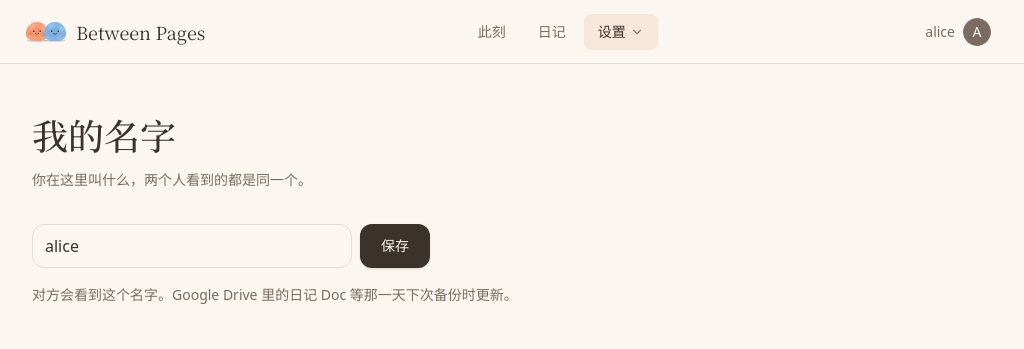
Test case: NamePage › [adr:display-name#3] shows the new name everywhere on screen without reloading
The width and height of the screenshot is (1024, 349).
Expected: the button with aria-label "账号：alice" is shown, [916,14,1000,50]
Replace the text in the field named "名字" with " 小雨 " at x=192, y=246, box [32,224,352,268]
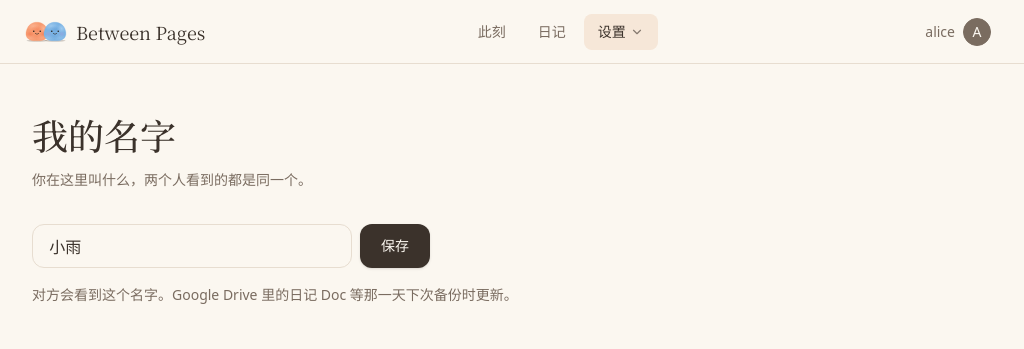
Click the button "保存" at x=395, y=246, box [360,224,430,268]
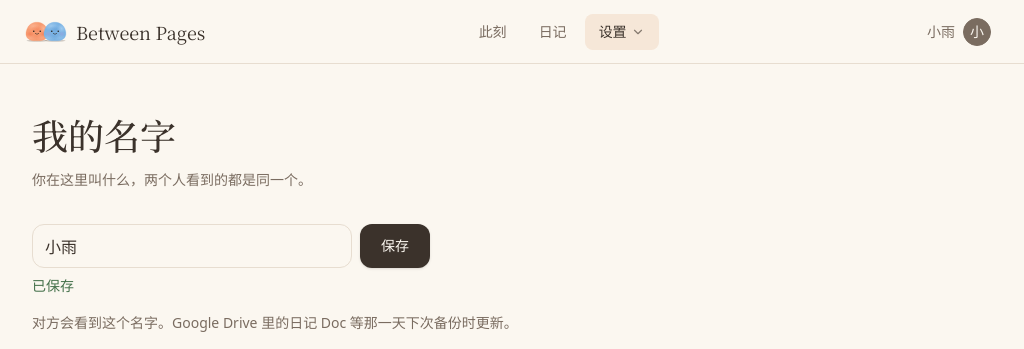
Now the text "已保存" is shown, box [32,276,74,295]
Now the button with aria-label "账号：小雨" is shown, box [918,14,1000,50]
